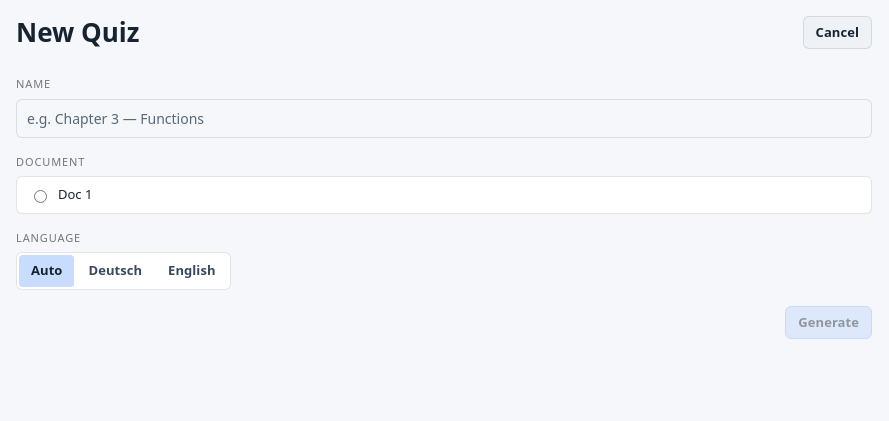
Test case: CreateQuizDialog › surfaces backend validation errors as inline text
Type "X" into the field at (444, 118), box [16, 98, 872, 138]
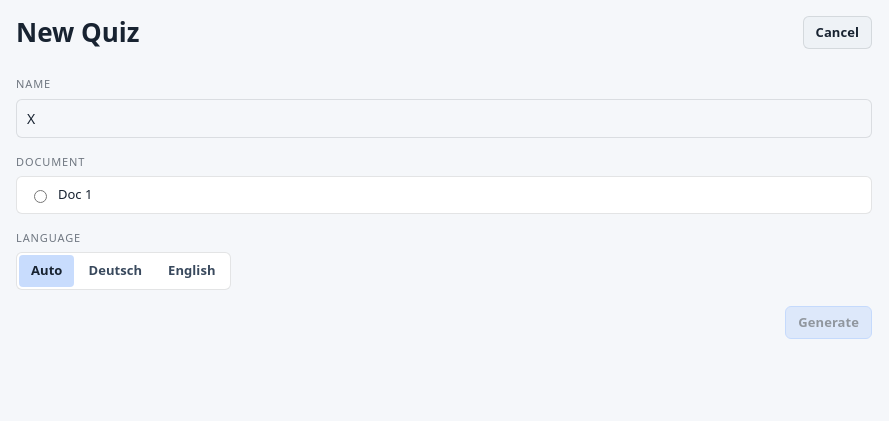
Click the radio button labelled "Doc 1" at (40, 196), box [34, 190, 47, 203]
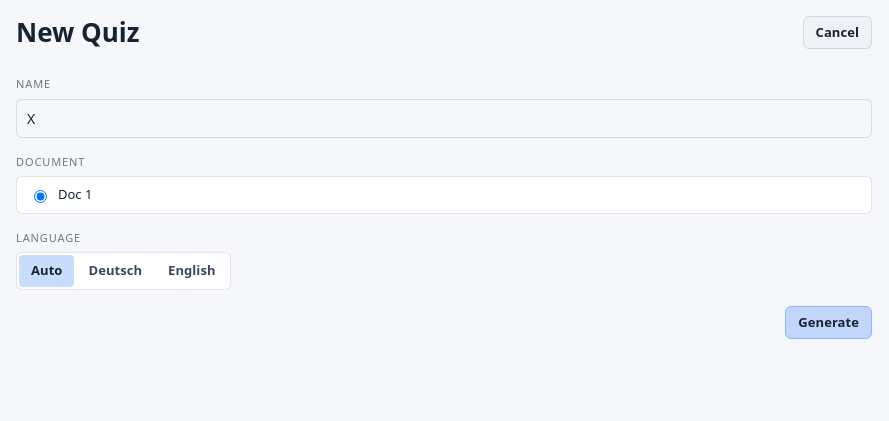
Click the button "Generate" at (829, 322), box [785, 306, 872, 339]
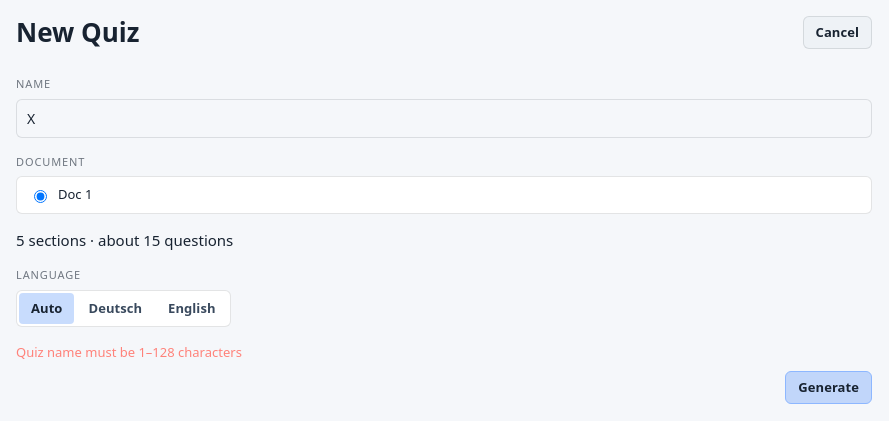
Expected: the text "Quiz name must be 1–128 characters" is shown, [16, 343, 242, 361]
